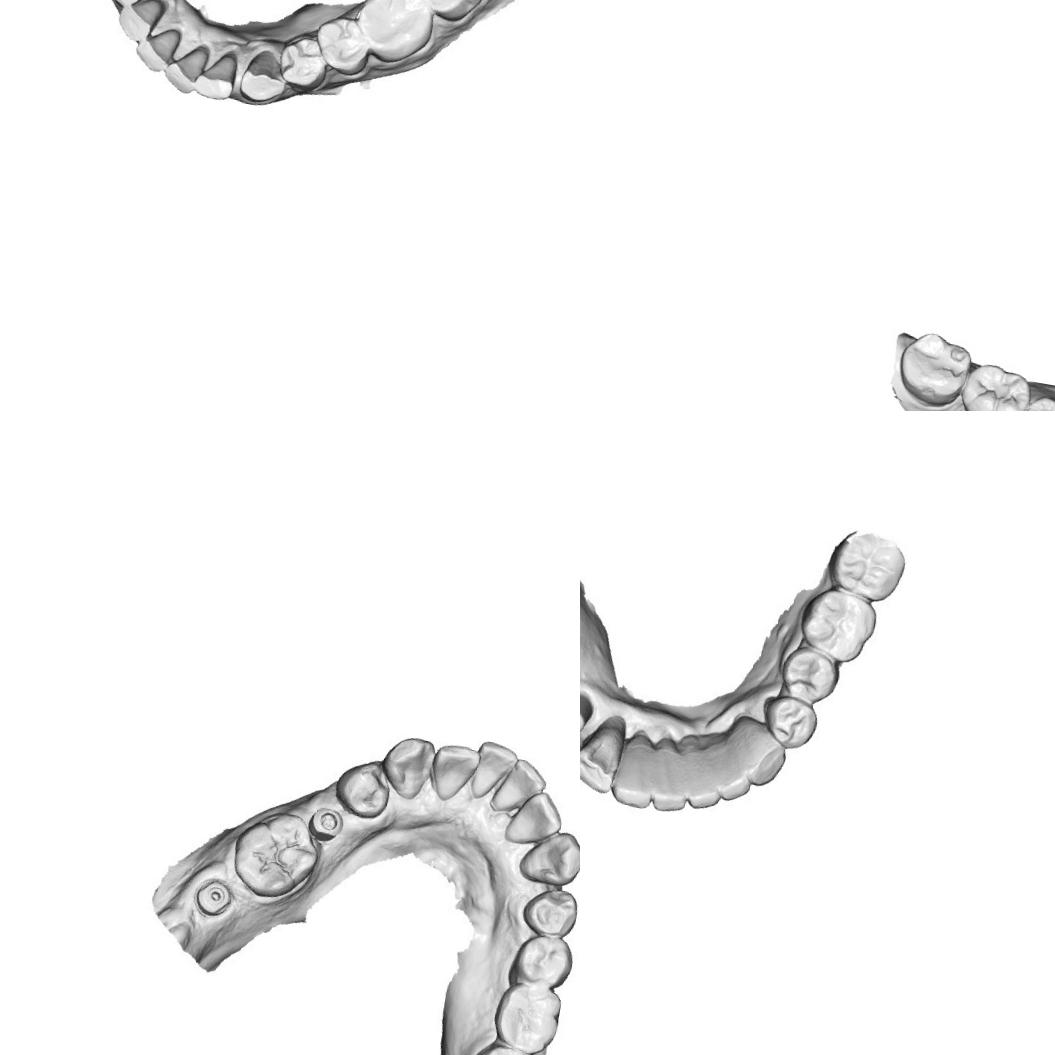abutment: (580, 680, 600, 742)
canine: (724, 712, 794, 791), (511, 823, 580, 894), (376, 731, 436, 803), (580, 710, 629, 796), (239, 44, 292, 102)
implant: (190, 872, 236, 918), (308, 804, 348, 844)
incisor: (501, 786, 569, 853), (673, 730, 728, 809), (694, 728, 756, 798), (490, 749, 550, 819), (609, 732, 664, 808), (646, 738, 695, 812), (426, 739, 480, 806), (463, 737, 514, 804), (193, 48, 246, 106), (163, 38, 209, 95), (112, 0, 167, 44), (131, 22, 177, 74)
molar: (226, 802, 324, 904), (892, 327, 976, 411), (822, 521, 908, 603), (800, 582, 881, 666), (488, 977, 567, 1055), (355, 0, 440, 69), (953, 358, 1034, 411), (409, 0, 494, 24), (465, 1036, 540, 1055)
premolar: (330, 752, 395, 825), (775, 643, 845, 706), (310, 10, 374, 78), (510, 929, 574, 992), (513, 882, 580, 942), (274, 32, 334, 90), (764, 694, 820, 746), (1016, 391, 1055, 411)
